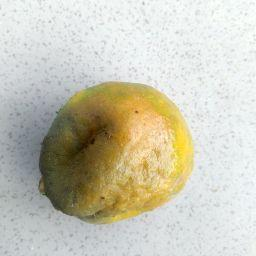orange: (38, 80, 197, 226)
